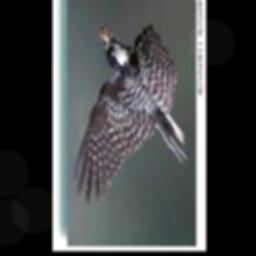Woodpecker: (69, 16, 187, 211)
